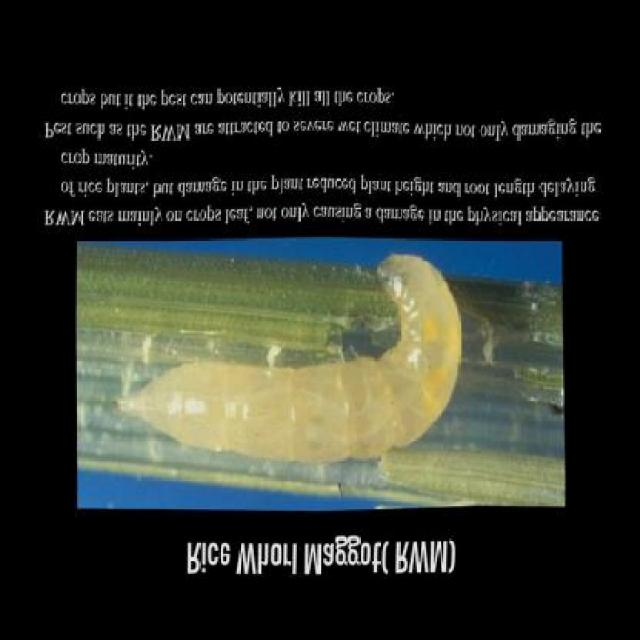whorl-maggot: (108, 251, 468, 472)
